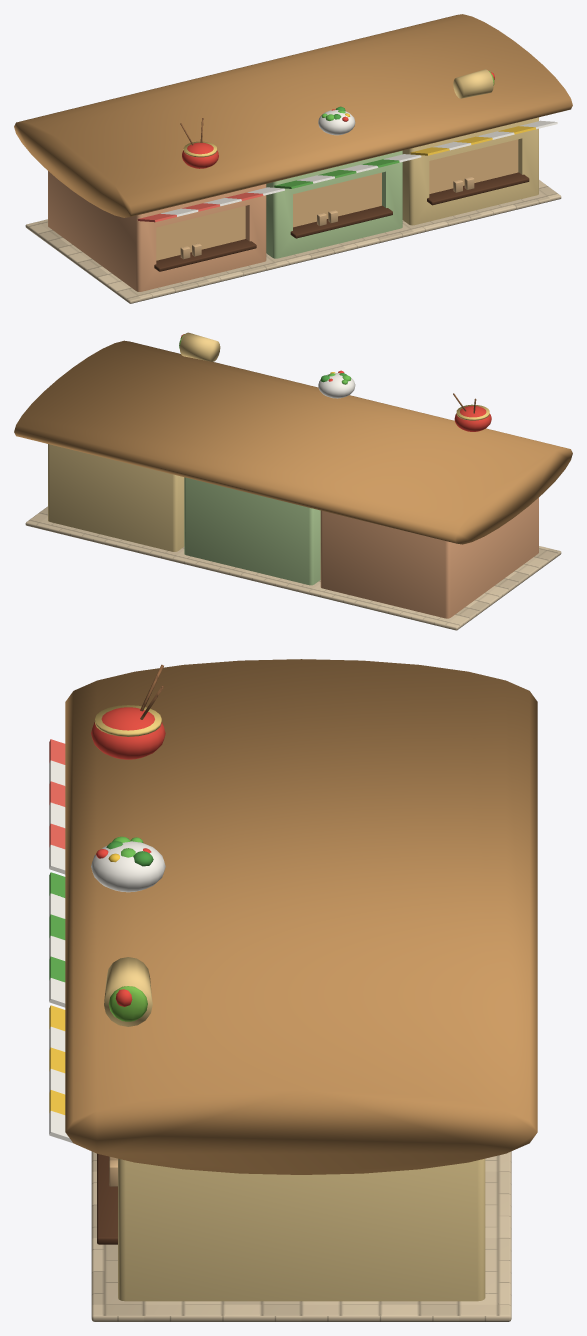
File: food_court.gltf
The picture shows the model from 3 angles, top to bottom: view 1: azimuth 30°, elevation 25°; view 2: azimuth 150°, elevation 25°; view 3: azimuth 270°, elevation 25°; orthographic projection. The views are drawn at different scales.
Parts seen in each view (by area): view 1: food_court_mesh, INT_counter_burrito, INT_counter_wok, INT_counter_salad; view 2: food_court_mesh; view 3: food_court_mesh, INT_counter_burrito.
Part boxes in pixels (bbox=[...]): food_court_mesh: bbox=[14, 14, 572, 303]; INT_counter_burrito: bbox=[427, 172, 529, 205]; INT_counter_wok: bbox=[154, 239, 256, 271]; INT_counter_salad: bbox=[290, 205, 392, 238]; food_court_mesh: bbox=[14, 332, 572, 630]; food_court_mesh: bbox=[49, 659, 537, 1321]; INT_counter_burrito: bbox=[97, 1153, 117, 1244].
Size of what is drawn, in the model's own units: 19.4 by 6.39 by 9.31.
23 materials, 2 textured.
